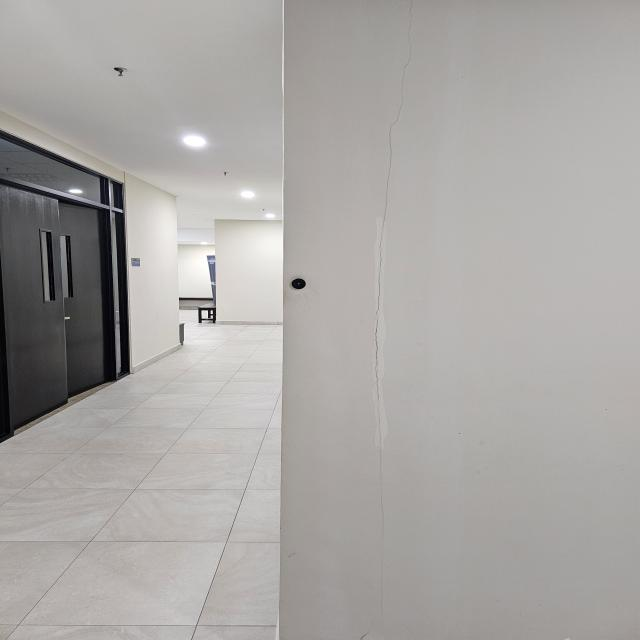door: (2, 180, 116, 438)
footpath: (1, 405, 278, 640)
